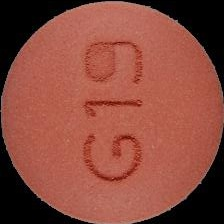68462-235: (0, 0, 224, 224)
